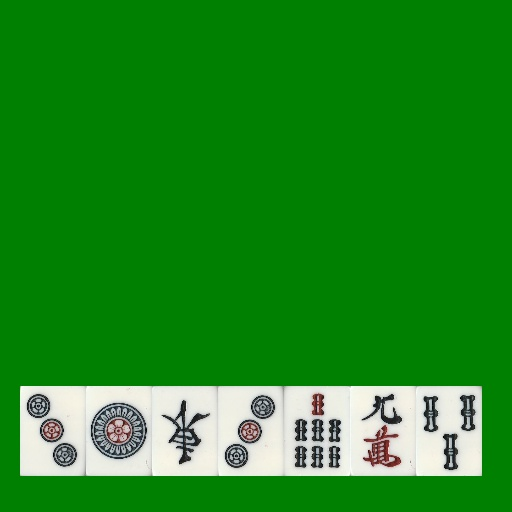1p: (86, 386, 152, 476)
3p: (20, 386, 86, 476), (218, 386, 284, 476)
3s: (416, 386, 482, 476)
7s: (284, 386, 350, 476)
9m: (350, 386, 416, 476)
east: (152, 386, 218, 476)
